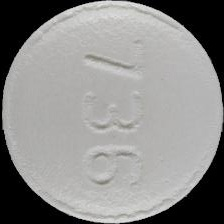33261-797: (0, 0, 224, 224)
